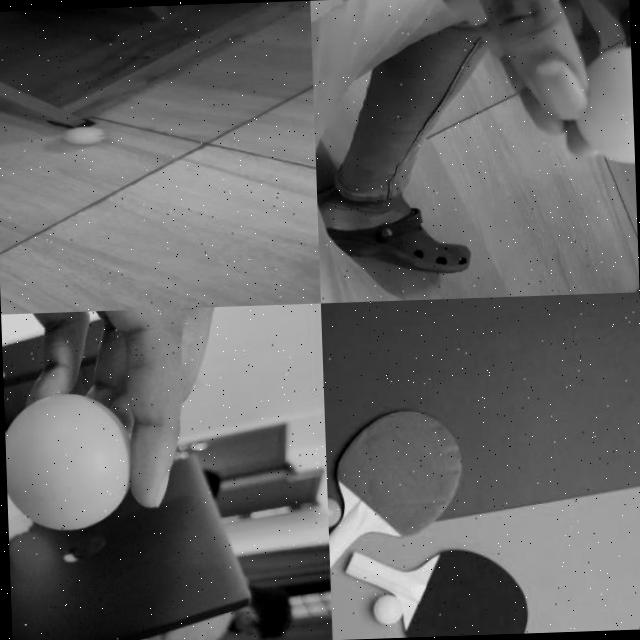ping-pong-ball: (2, 392, 132, 532), (574, 48, 634, 164), (60, 126, 105, 144), (327, 496, 340, 526)
